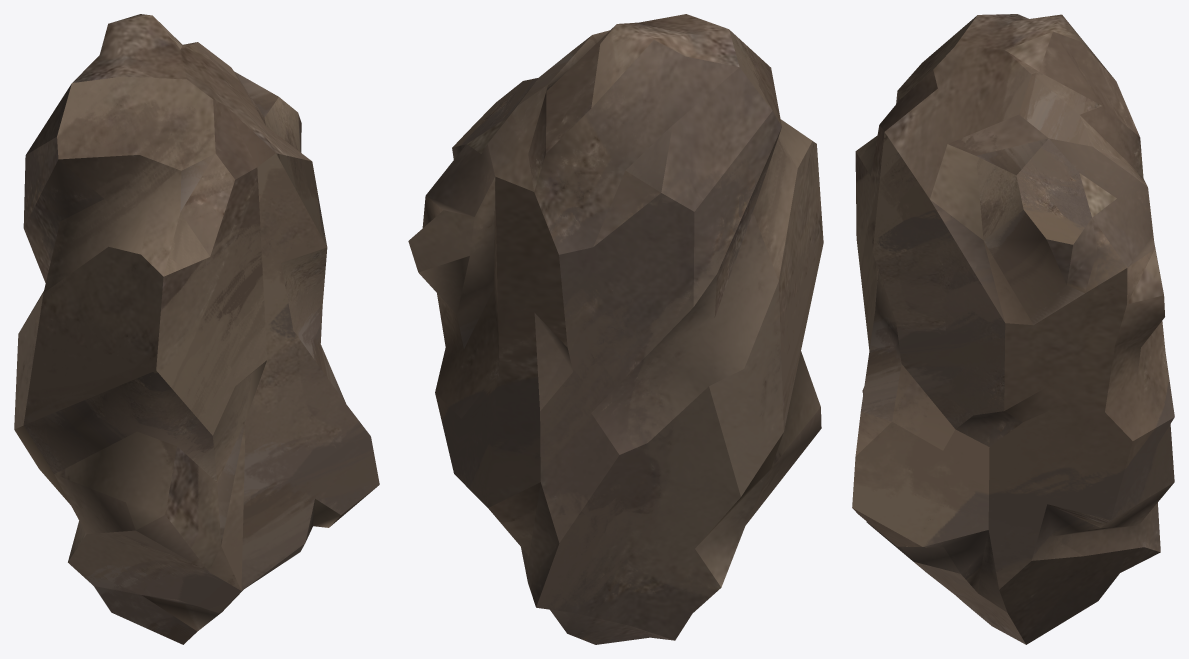
The model's file is P_ROCK 1.fbx.
3 renders of one model, left to right at view 1: azimuth 30°, elevation 25°; view 2: azimuth 150°, elevation 25°; view 3: azimuth 270°, elevation 25°, orthographic. The views are drawn at different scales.
Visible parts, largest first — view 1: Rock_01; view 2: Rock_01; view 3: Rock_01.
Part boxes in pixels (<box>): Rock_01: <box>14,14,379,644</box>; Rock_01: <box>408,14,823,644</box>; Rock_01: <box>852,14,1174,644</box>.
Bounding box in the file's own units: 74.11 × 148 × 72.49.
